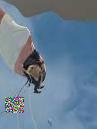faulty: (8, 23, 49, 97)
